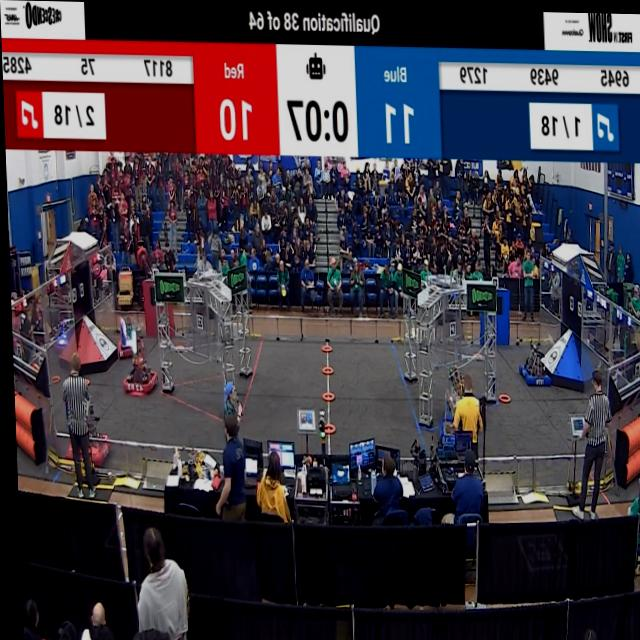Robot: (56, 371, 111, 469), (117, 319, 157, 402), (512, 336, 548, 391), (111, 311, 146, 362), (431, 351, 452, 424), (427, 394, 451, 444)
